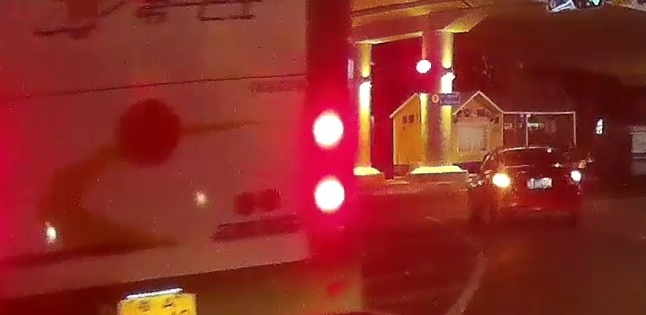L_light: (492, 174, 513, 188)
R_light: (568, 171, 582, 183)
T_light: (530, 150, 543, 153)
night-left: (488, 145, 585, 229)
